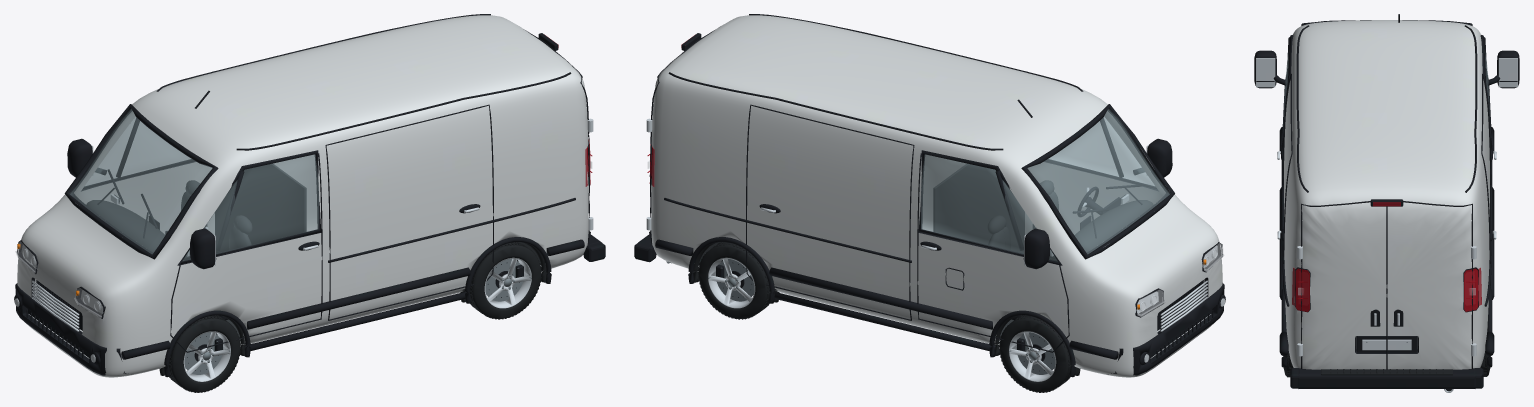
The model's file is cargo_van.glb.
The picture shows the model from 3 angles, left to right: view 1: azimuth 30°, elevation 25°; view 2: azimuth 150°, elevation 25°; view 3: azimuth 270°, elevation 25°; orthographic projection.
Parts seen in each view (by area): view 1: Van continuous hollow 12-station steel shell, Brake caliper, Front door window curved transparent pane 1, Cabin floor, 107 reused Sculpted_tyre, 107 reused Alloy_five_spoke_rim, Wide moulded front bumper fascia, 107 reused Center_cap, Clear foglamp cover; view 2: Van continuous hollow 12-station steel shell, Brake caliper, Front door window curved transparent pane 1, Cabin floor, 107 reused Sculpted_tyre, 107 reused Alloy_five_spoke_rim, Wide moulded front bumper fascia, 107 reused Center_cap, Clear foglamp cover; view 3: Van continuous hollow 12-station steel shell, Brake caliper, 107 reused Alloy_five_spoke_rim, High-mounted reflective red stop lens, 107 reused Sculpted_tyre.
Part boxes in pixels (bbox=[...]): Van continuous hollow 12-station steel shell: bbox=[17, 15, 588, 377]; Brake caliper: bbox=[14, 14, 605, 377]; Front door window curved transparent pane 1: bbox=[69, 109, 319, 261]; Cabin floor: bbox=[86, 163, 306, 337]; 107 reused Sculpted_tyre: bbox=[81, 231, 590, 392]; 107 reused Alloy_five_spoke_rim: bbox=[15, 118, 593, 381]; Wide moulded front bumper fascia: bbox=[15, 283, 131, 375]; 107 reused Center_cap: bbox=[184, 259, 531, 374]; Clear foglamp cover: bbox=[14, 161, 592, 362]; Van continuous hollow 12-station steel shell: bbox=[651, 15, 1222, 377]; Brake caliper: bbox=[634, 14, 1225, 377]; Front door window curved transparent pane 1: bbox=[920, 109, 1170, 261]; Cabin floor: bbox=[933, 163, 1153, 338]; 107 reused Sculpted_tyre: bbox=[649, 231, 1158, 392]; 107 reused Alloy_five_spoke_rim: bbox=[646, 118, 1224, 381]; Wide moulded front bumper fascia: bbox=[1107, 283, 1224, 375]; 107 reused Center_cap: bbox=[668, 259, 1055, 374]; Clear foglamp cover: bbox=[647, 160, 1225, 362]; Van continuous hollow 12-station steel shell: bbox=[1284, 20, 1489, 369]; Brake caliper: bbox=[1254, 14, 1519, 391]; 107 reused Alloy_five_spoke_rim: bbox=[1256, 58, 1517, 392]; High-mounted reflective red stop lens: bbox=[1292, 202, 1481, 311]; 107 reused Sculpted_tyre: bbox=[1283, 336, 1490, 377].
Size of the model in its own units: 5.7 by 2.65 by 2.62.
Materials: 11 (11 with a texture image).
